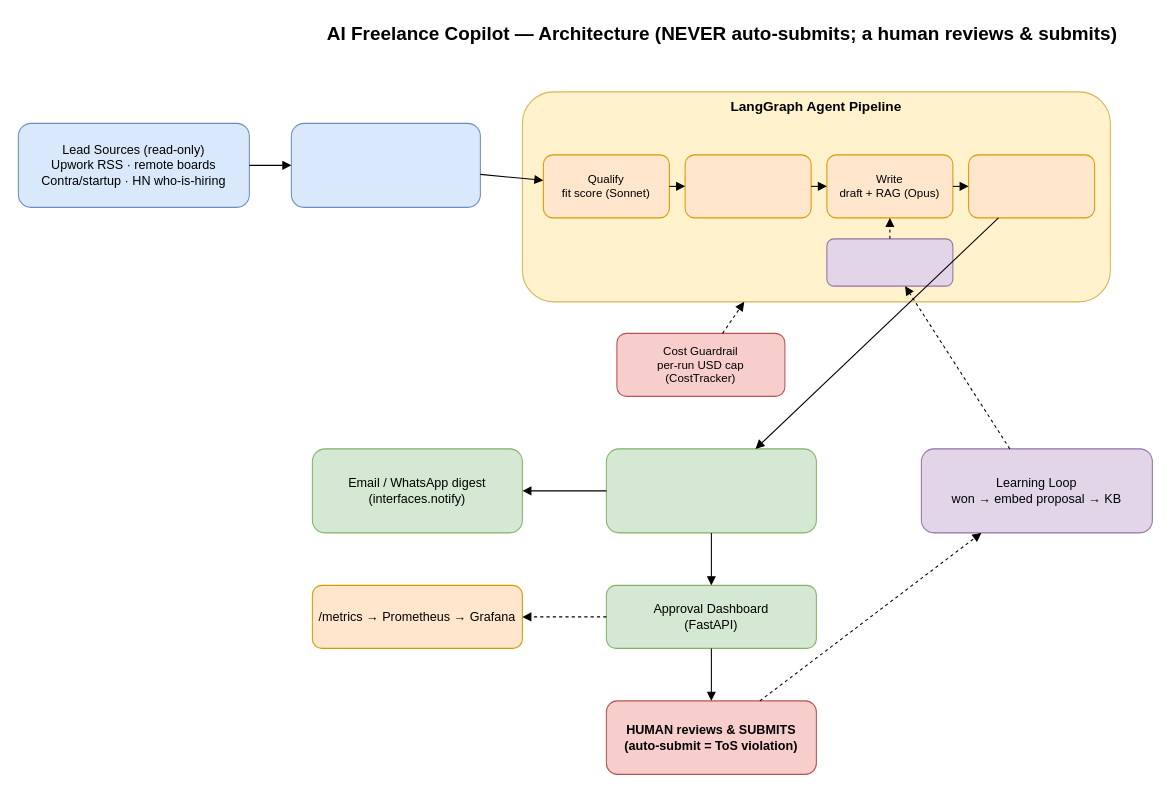
The diagram is 1171 pixels wide and 793 high, and some of its shapes have lost their labels. Here are the shapes that lost their labels. From the top down, the centre of each, then its label:
At point 385,164: "Fetch + Dedupe (sources.registry.fetch_all)".
At point 747,186: "Research enrich (Sonnet)".
At point 1031,186: "Review compliance gate".
At point 889,262: "Portfolio RAG KB (vector store)".
At point 710,490: "DB Queue LeadRecord / ProposalRecord status = drafted".
